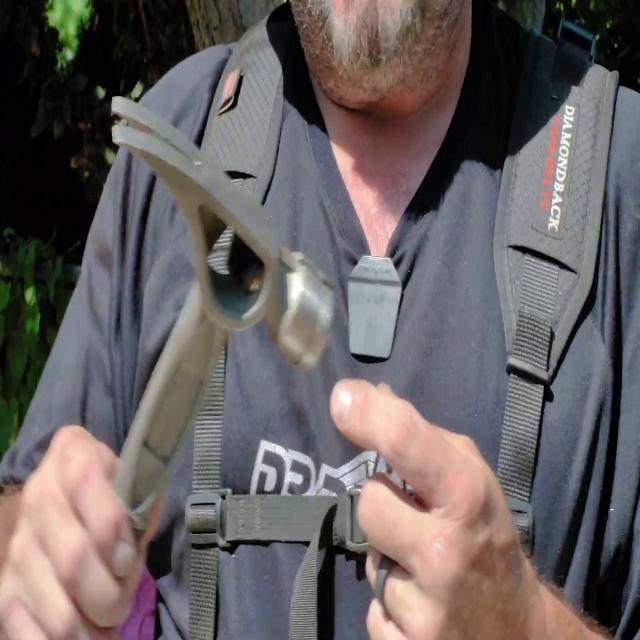hammer: (110, 96, 334, 582)
